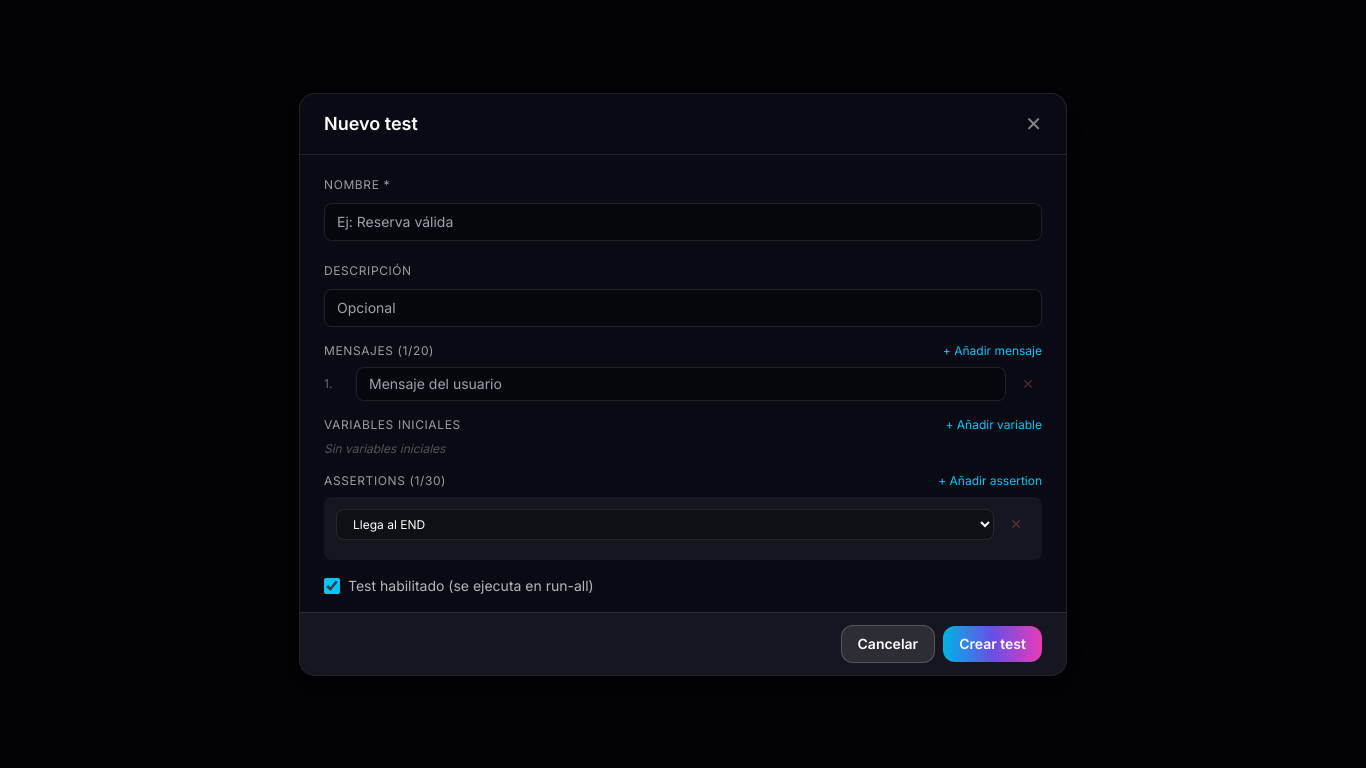
TestEditor › Añadir mensajes › añade un mensaje al pulsar "+ Añadir mensaje"
Expected: the number of fields with placeholder "Mensaje del usuario" is 1, [356, 366, 1006, 400]
Click the button "+ Añadir mensaje" at (992, 350), box [943, 342, 1042, 358]
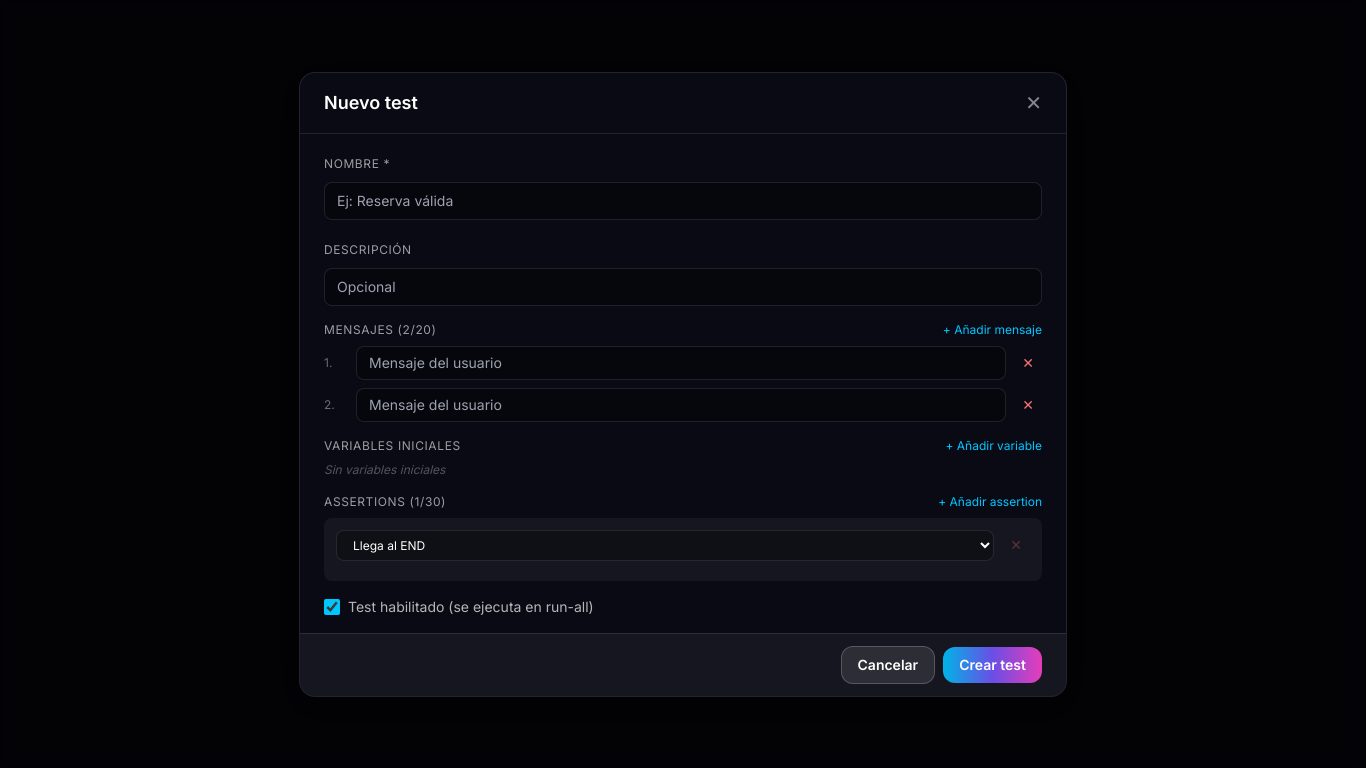
Now the number of fields with placeholder "Mensaje del usuario" is 2, box [356, 346, 1006, 380]; [356, 388, 1006, 422]
